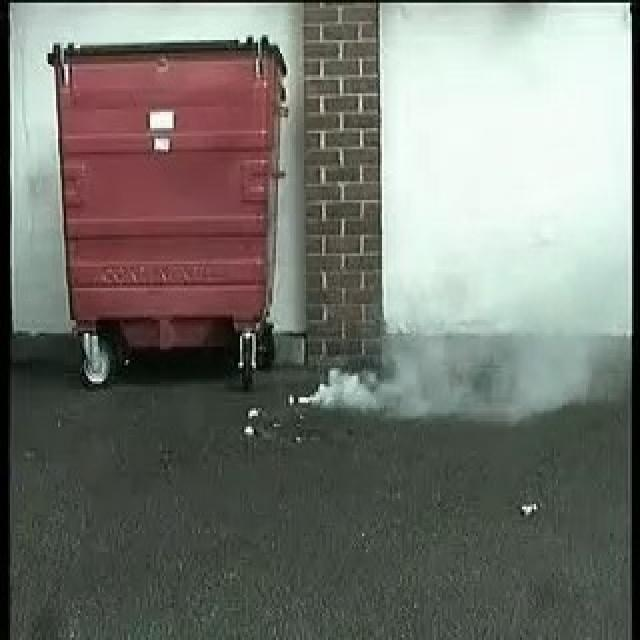smoke: (298, 321, 562, 414)
